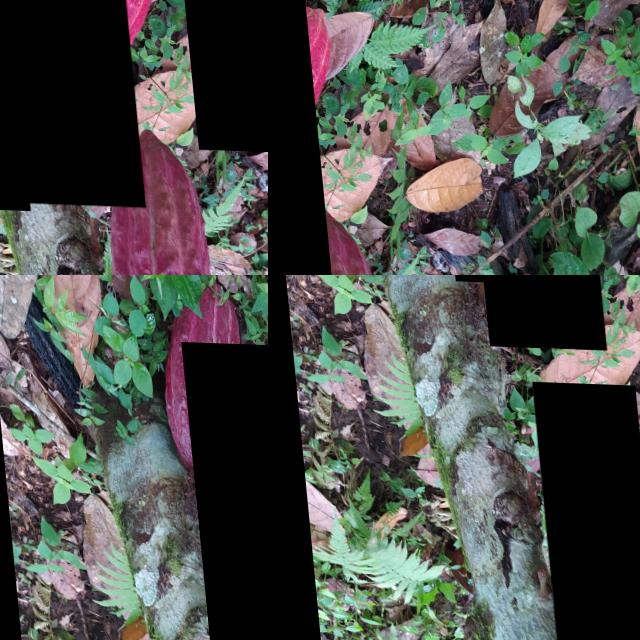Fitoftora: (0, 0, 138, 205)
Monilia: (471, 275, 601, 348)
Sana: (526, 379, 640, 640), (180, 340, 268, 640), (169, 0, 268, 149)
